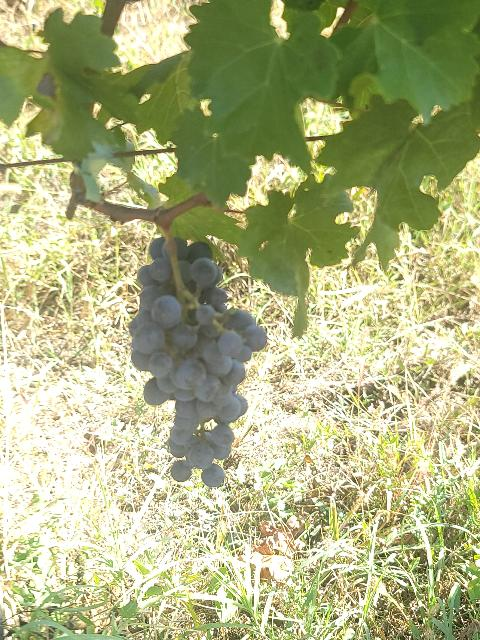grapes: (129, 238, 268, 488)
